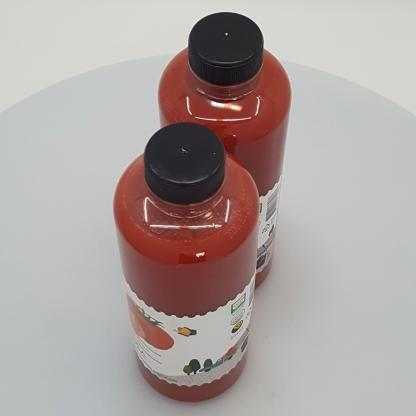-------------------900ML: (113, 121, 259, 402), (157, 10, 290, 293)
